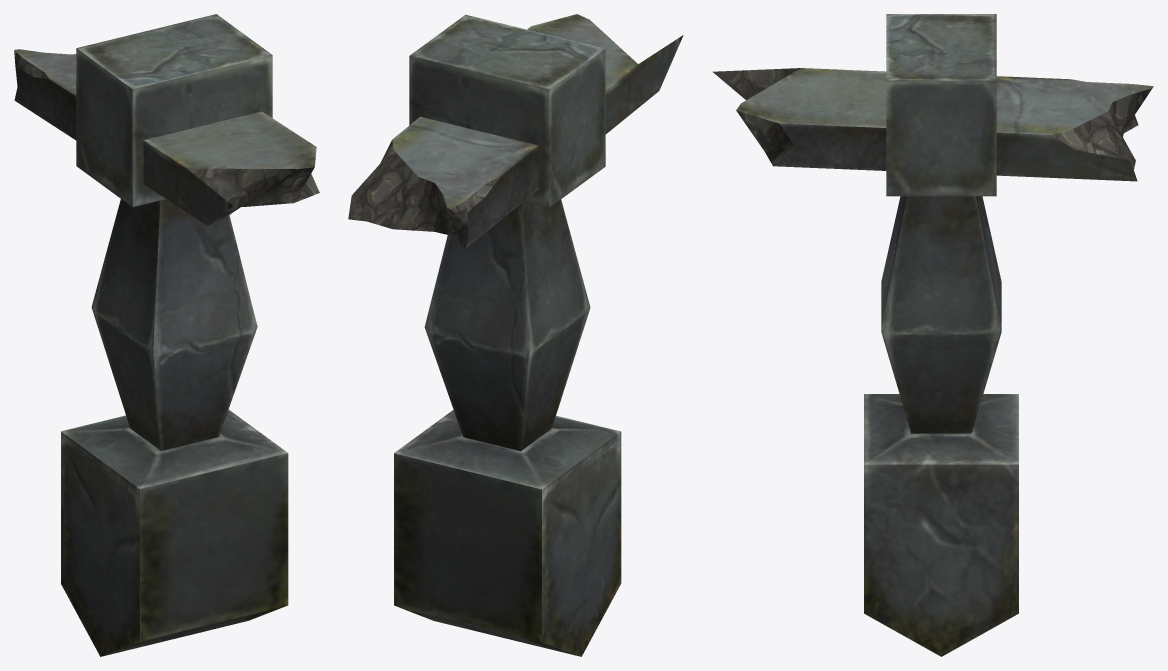
The model's file is F_fushou012.fbx.
3 views of the same model, side by side, from view 1: azimuth 30°, elevation 25°; view 2: azimuth 150°, elevation 25°; view 3: azimuth 270°, elevation 25° (orthographic). The views are drawn at different scales.
Visible parts, largest first — view 1: F_fushou012; view 2: F_fushou012; view 3: F_fushou012.
Boxes of the visible parts, bbox=[...] form: F_fushou012: bbox=[14, 14, 319, 656]; F_fushou012: bbox=[348, 14, 683, 656]; F_fushou012: bbox=[712, 14, 1153, 656].
Size of the model in its own units: 37.26 by 141 by 98.24.
